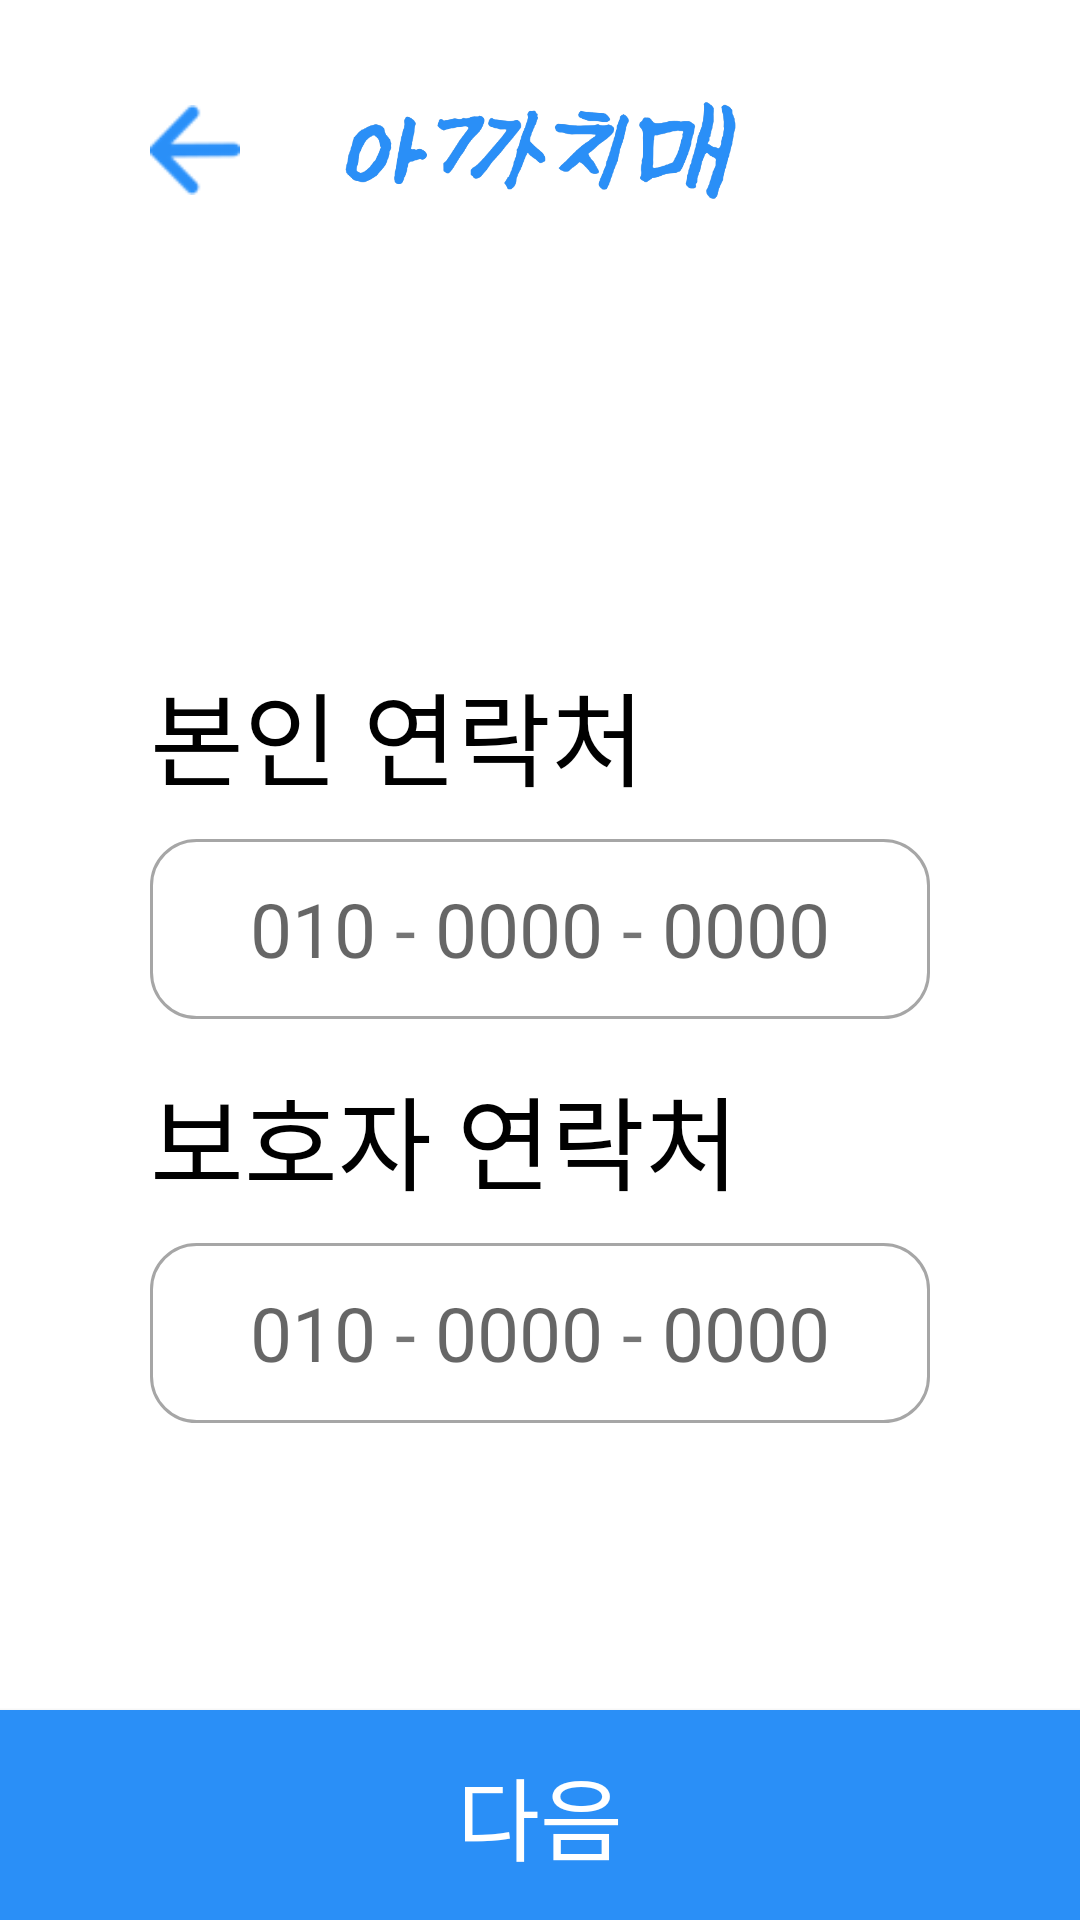

Screen size 1080w x 1920h. Icon name, then its center in pixels as (x=x, y=y):
back: (x=195, y=150)
